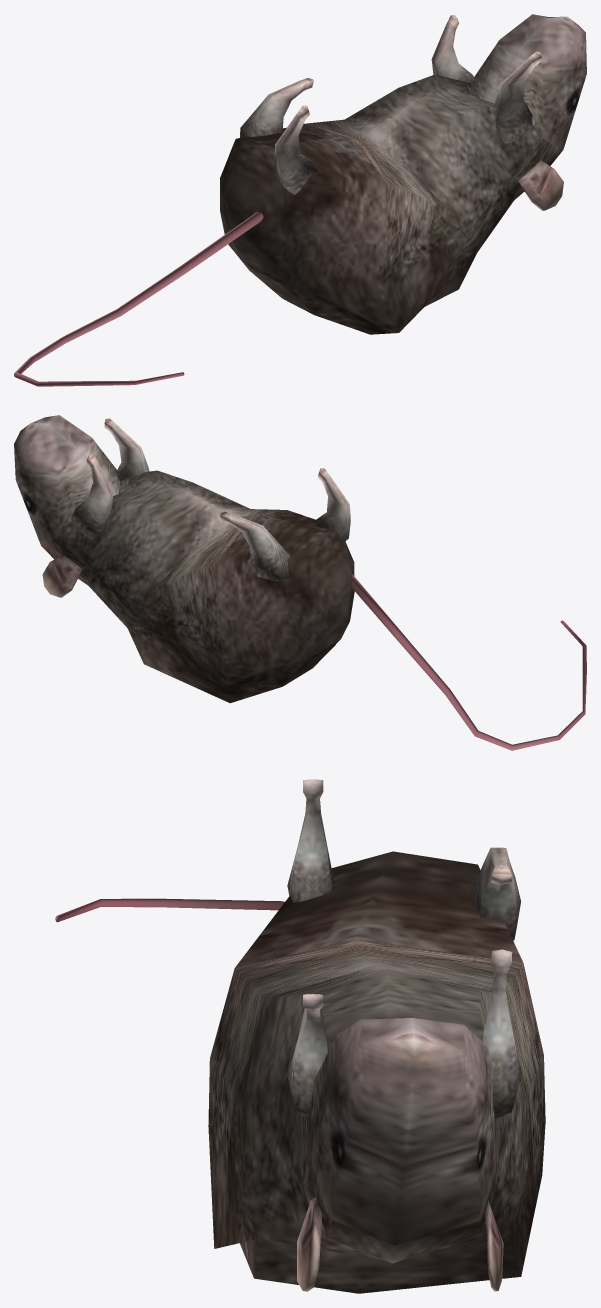
The model's file is dead_rat.FBX.
3 renders of one model, top to bottom at view 1: azimuth 30°, elevation 25°; view 2: azimuth 150°, elevation 25°; view 3: azimuth 270°, elevation 25°, orthographic. The views are drawn at different scales.
Visible parts, largest first — view 1: dead_rat; view 2: dead_rat; view 3: dead_rat.
Boxes of the visible parts, <box> form: dead_rat: <box>14,14,586,386</box>; dead_rat: <box>14,415,586,750</box>; dead_rat: <box>55,779,545,1293</box>.
Size of the model in its own units: 19.84 by 7.85 by 7.92.
